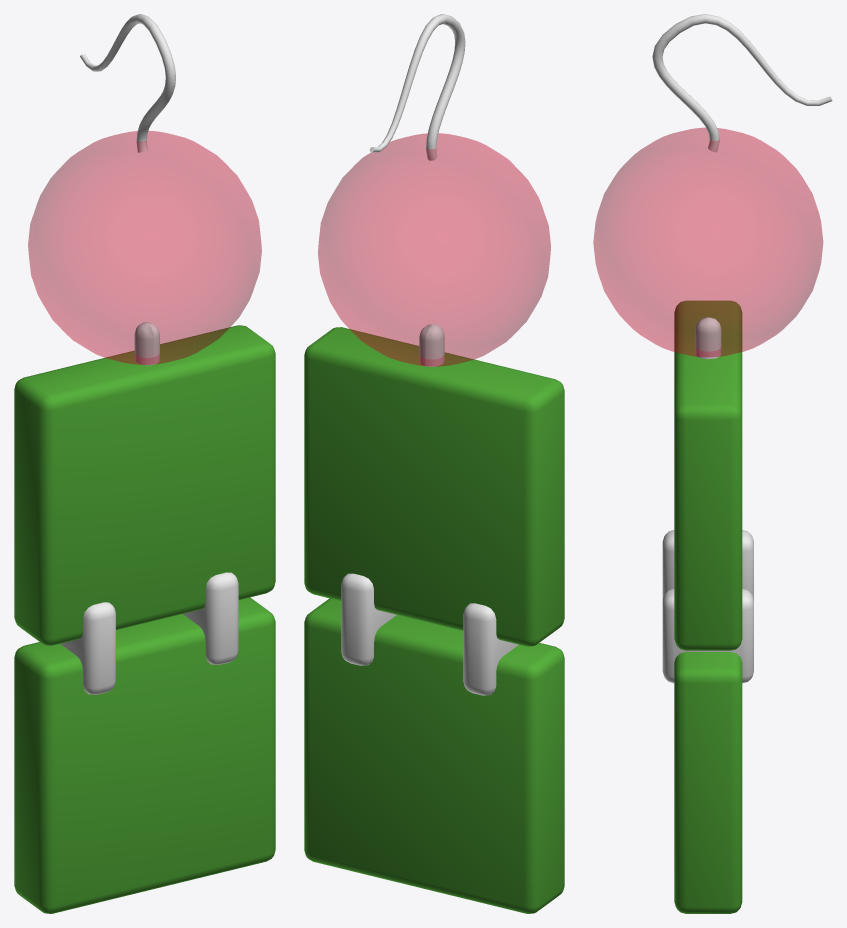
File: earing_esmerald.glb
3 views of the same model, side by side, from view 1: azimuth 30°, elevation 25°; view 2: azimuth 150°, elevation 25°; view 3: azimuth 270°, elevation 25° (orthographic).
Visible parts, largest first — view 1: Sphere, BézierCurve; view 2: Sphere, BézierCurve; view 3: Sphere, BézierCurve.
Boxes of the visible parts, <box> form: Sphere: <box>14,131,275,913</box>; BézierCurve: <box>80,14,175,152</box>; Sphere: <box>304,133,564,913</box>; BézierCurve: <box>369,14,465,160</box>; Sphere: <box>593,128,822,913</box>; BézierCurve: <box>652,14,832,152</box>.
Bounding box in the file's own units: 0.0111 × 0.0389 × 0.00996.
